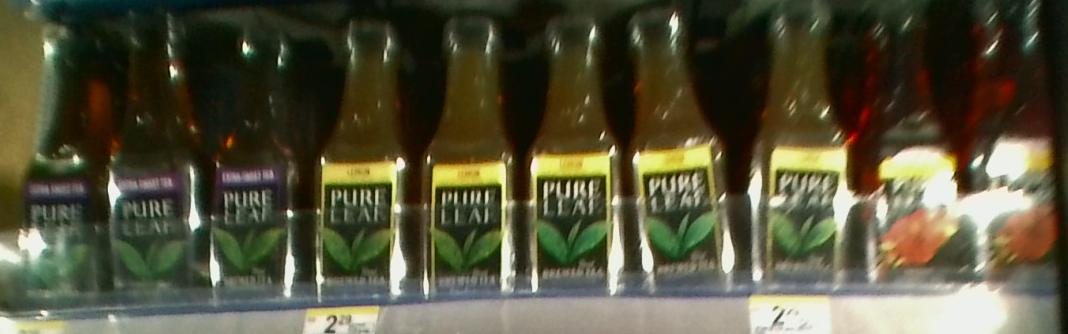bottle: (846, 2, 973, 277), (738, 4, 852, 296), (626, 10, 739, 297), (413, 18, 527, 297), (102, 5, 204, 311), (306, 15, 414, 304), (525, 12, 629, 304), (201, 16, 301, 306), (967, 4, 1065, 281), (22, 6, 101, 314)
